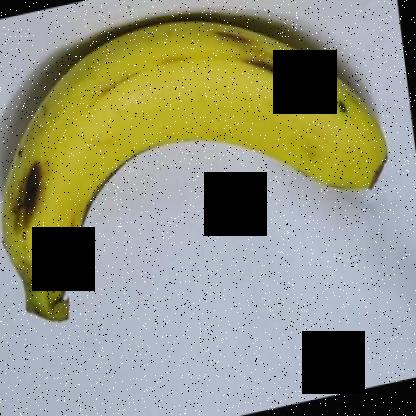freshripe: (1, 1, 398, 358)
